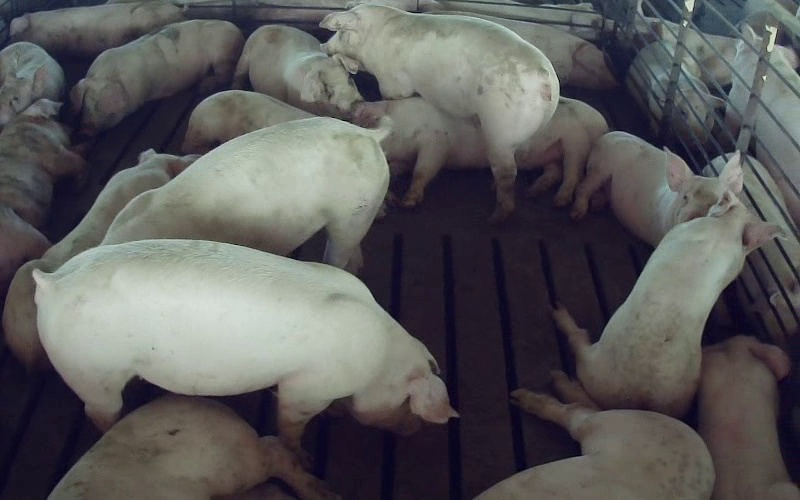pig: (33, 240, 456, 451), (321, 4, 558, 220), (553, 192, 777, 416), (102, 117, 388, 272), (3, 149, 195, 369), (476, 372, 714, 499), (48, 395, 336, 499), (70, 20, 243, 135), (571, 132, 742, 246), (698, 336, 799, 499), (0, 99, 84, 294), (233, 25, 362, 117), (10, 2, 183, 56), (0, 42, 64, 128)
